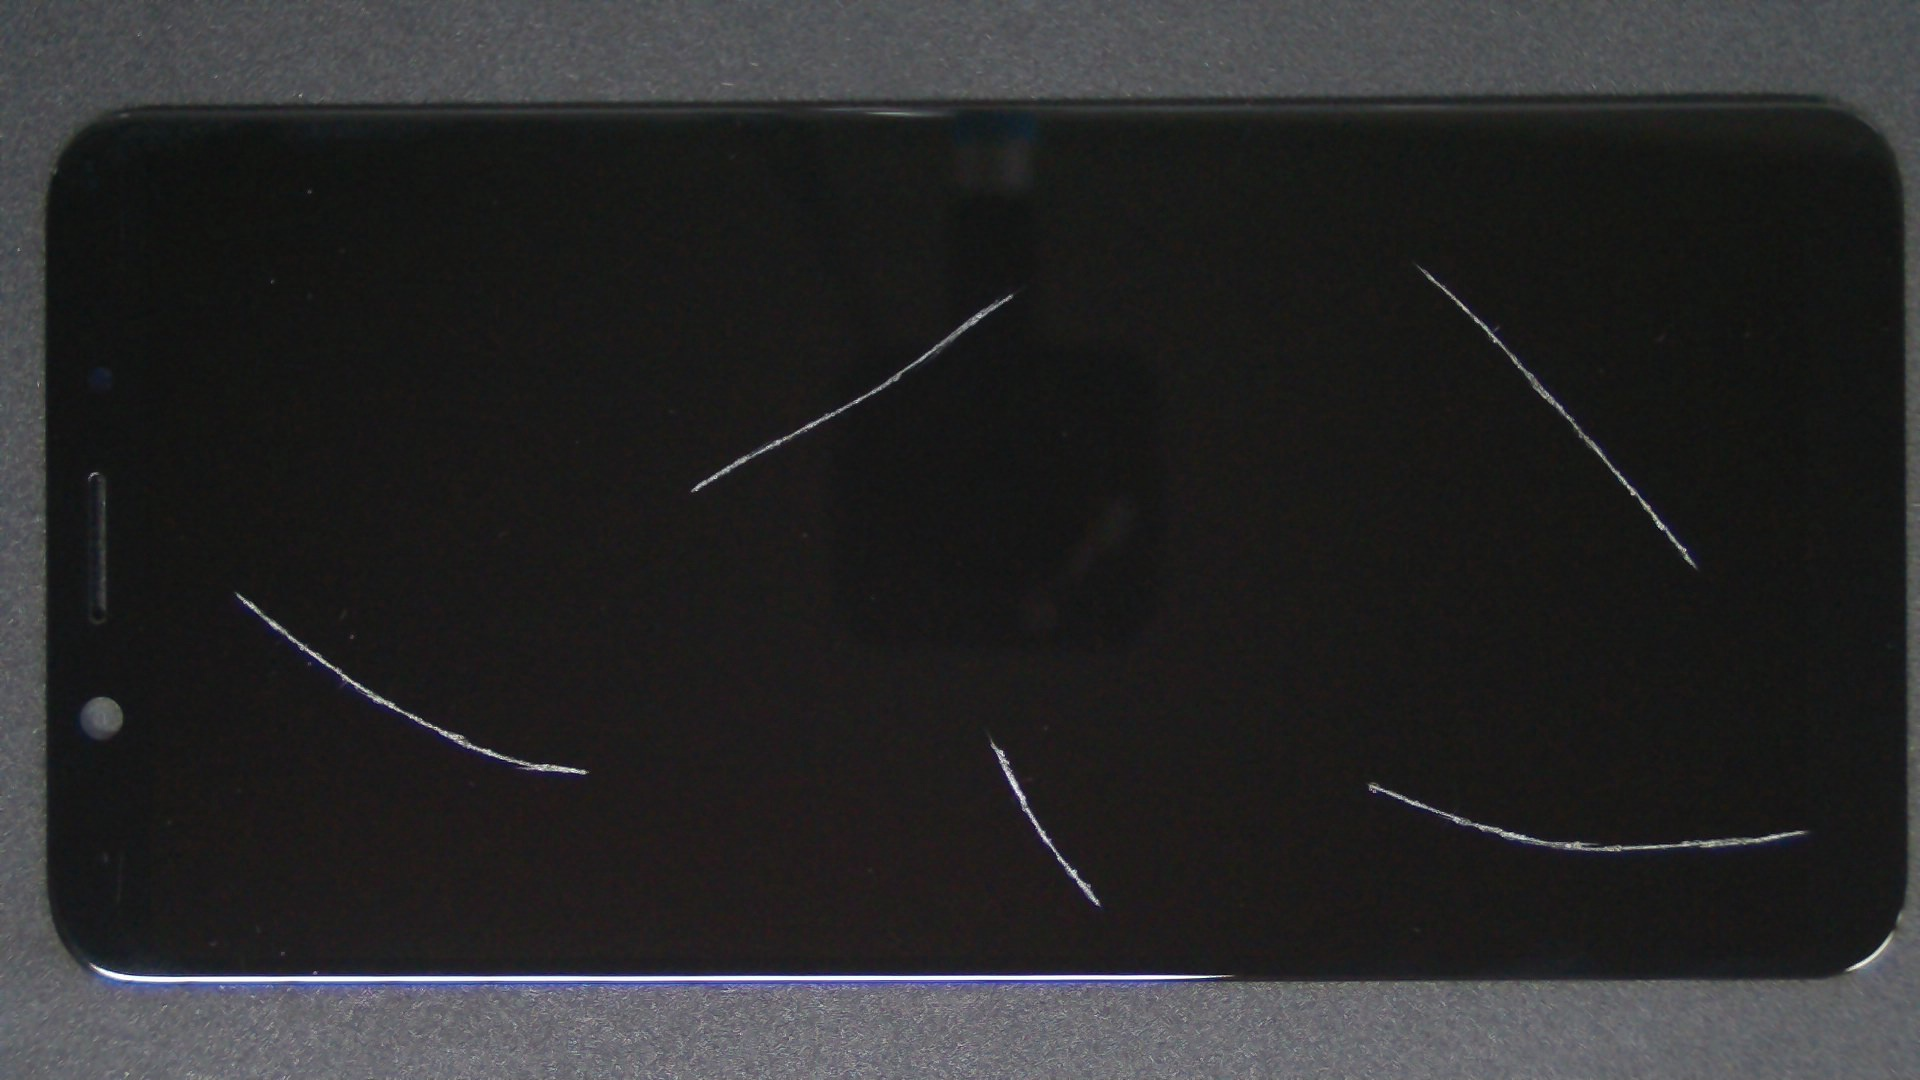oil: (687, 390, 1920, 1080), (495, 368, 1482, 1080), (705, 131, 1920, 398), (506, 146, 1516, 442), (115, 294, 353, 891)
